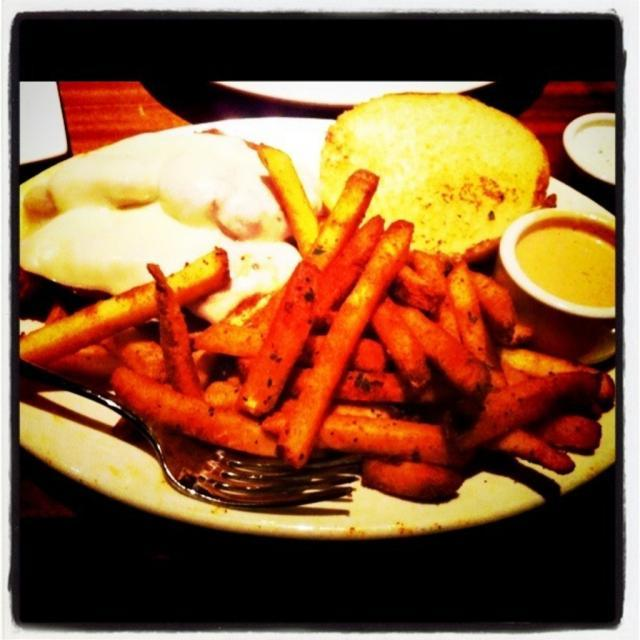French fries: (63, 167, 590, 504)
